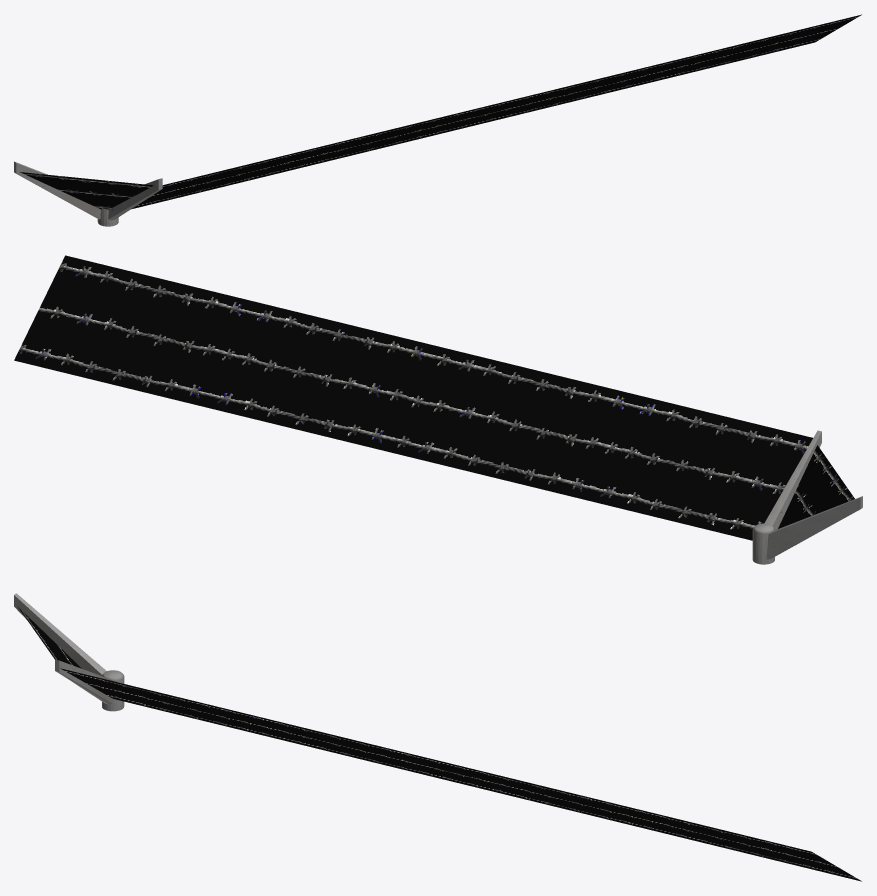
Rendered from chain_barbwire_corner.fbx.
3 views of the same model, one above another, from view 1: azimuth 30°, elevation 25°; view 2: azimuth 150°, elevation 25°; view 3: azimuth 330°, elevation 25° (orthographic). The views are drawn at different scales.
Parts seen in each view (by area): view 1: chain_barbwire_corner; view 2: chain_barbwire_corner; view 3: chain_barbwire_corner.
Part boxes in pixels (x1,y1,x2,y2): chain_barbwire_corner: [14, 14, 861, 226]; chain_barbwire_corner: [14, 255, 862, 564]; chain_barbwire_corner: [14, 593, 861, 881].
Bounding box in the file's own units: 3.41 × 0.3351 × 0.4268.
Materials: 2 (2 with a texture image).
